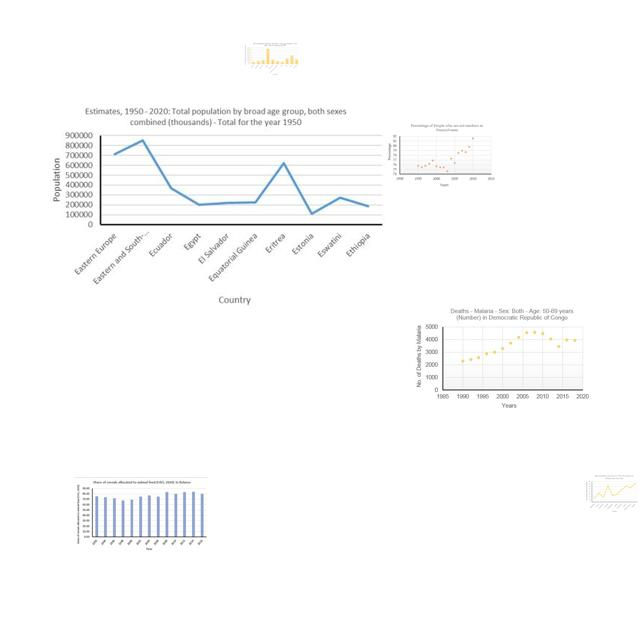Graph: (44, 102, 386, 307), (415, 305, 593, 411), (75, 477, 208, 552), (386, 122, 497, 188), (585, 474, 638, 513), (244, 42, 300, 76)
